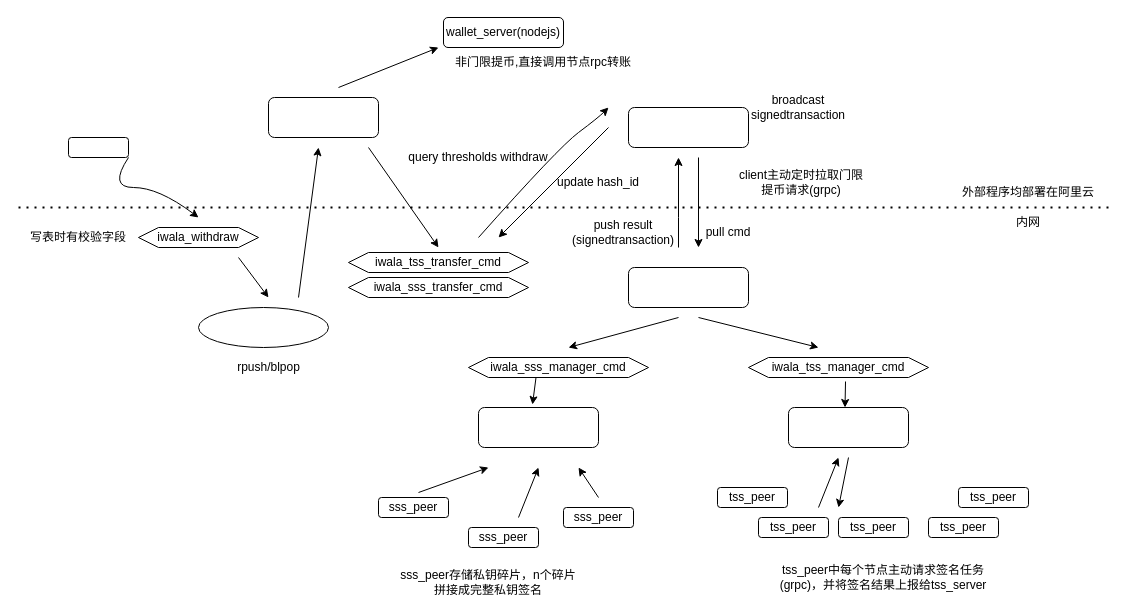
Some shapes in this 1127 by 615 pixel diagram are drawn without their labels. The shapes that lost their labels are listed below. From the top down, each one's box as (x1, y1, x2, y2) in pixels, then its label:
(268, 96, 378, 138): withdraw
(628, 106, 748, 148): external_server
(68, 136, 128, 158): app php
(628, 266, 748, 308): external_client
(198, 306, 328, 348): redis_withdraw_queue
(478, 406, 598, 448): sss_server
(788, 406, 908, 448): tss_server
